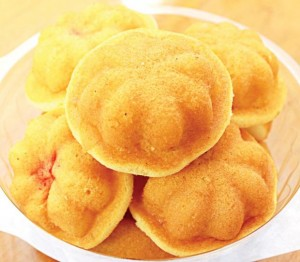kanomkai: (66, 26, 237, 182), (131, 118, 286, 258), (8, 103, 139, 251)
